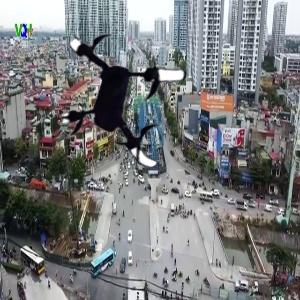drone: (50, 21, 206, 177)
